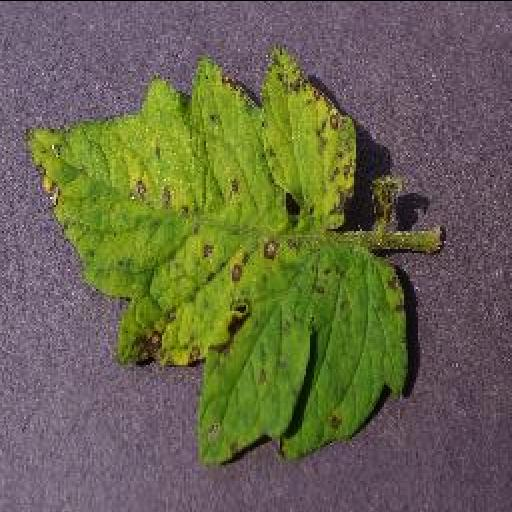disease_tomato: (26, 40, 410, 462)
